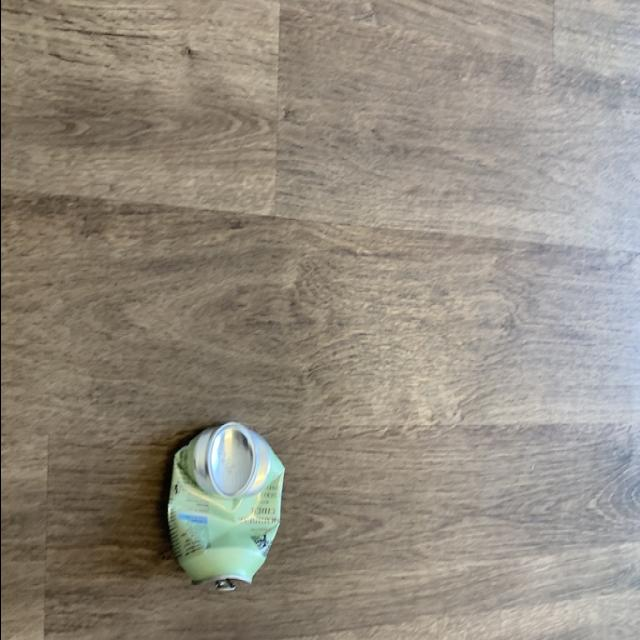Aluminum Can: (149, 402, 316, 608)
